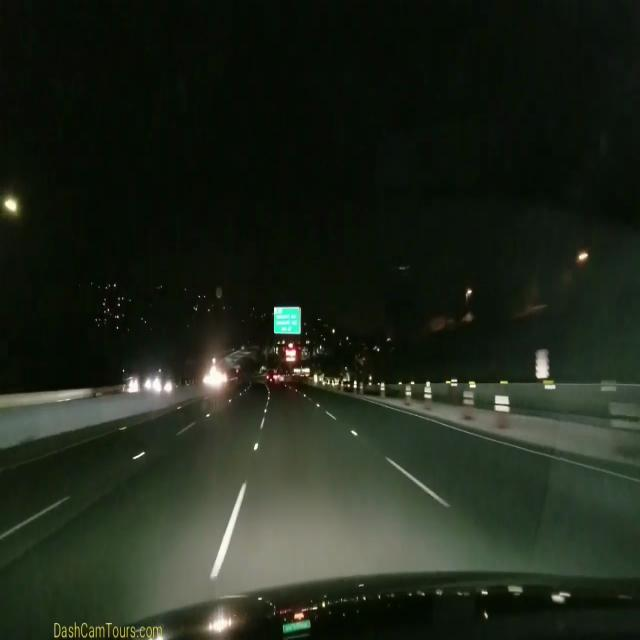street-signs: (274, 306, 300, 332)
